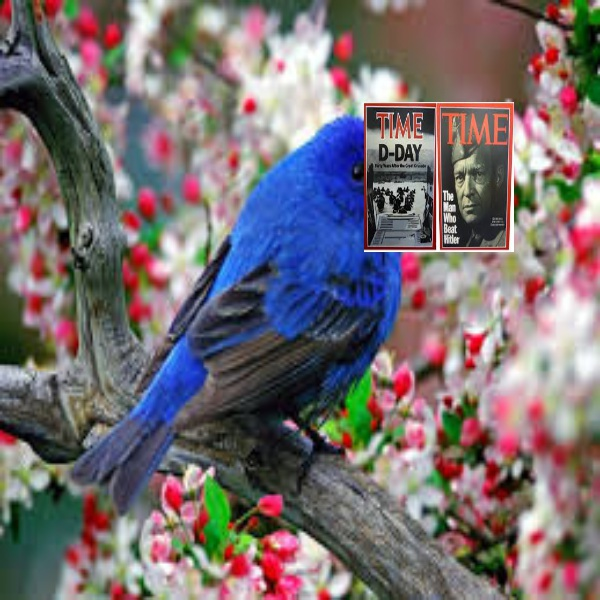time_cover: (442, 103, 509, 252), (364, 102, 432, 246)
